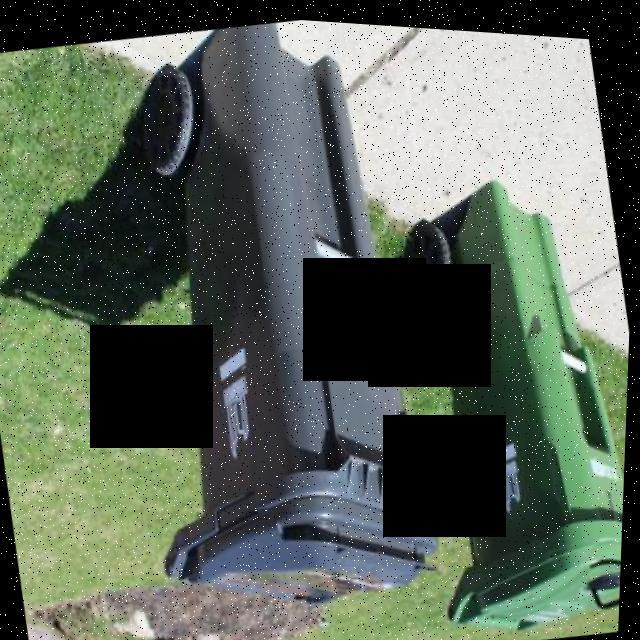bin: (61, 4, 471, 640), (364, 133, 637, 640)
